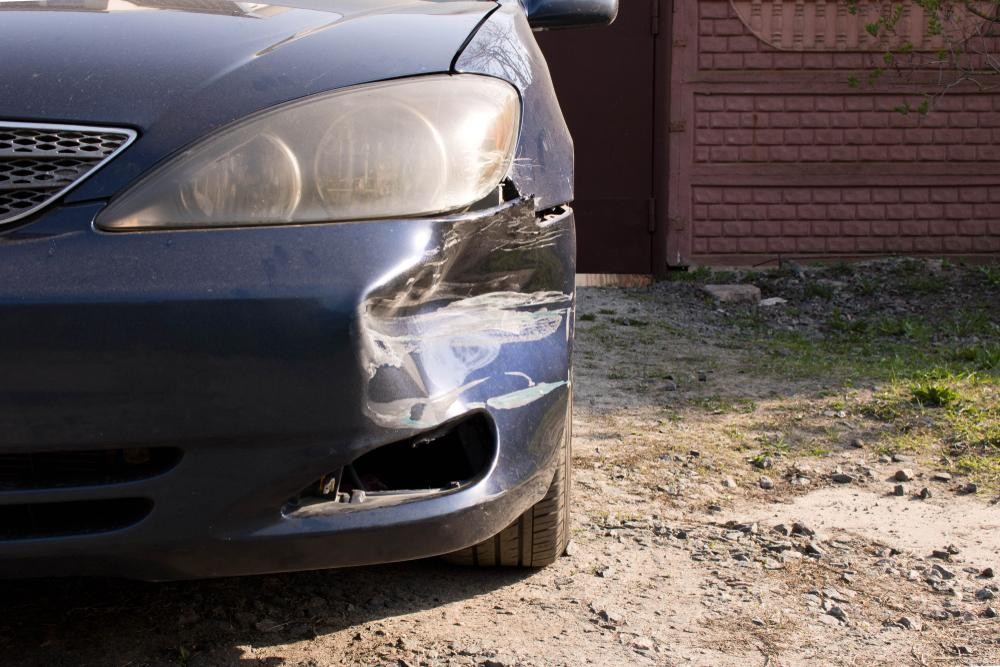dent: (364, 215, 574, 414)
scratch: (351, 302, 572, 430)
